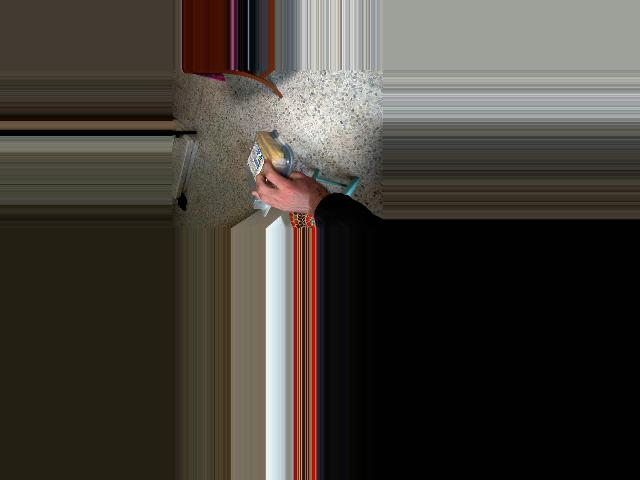cheese: (245, 128, 287, 192)
